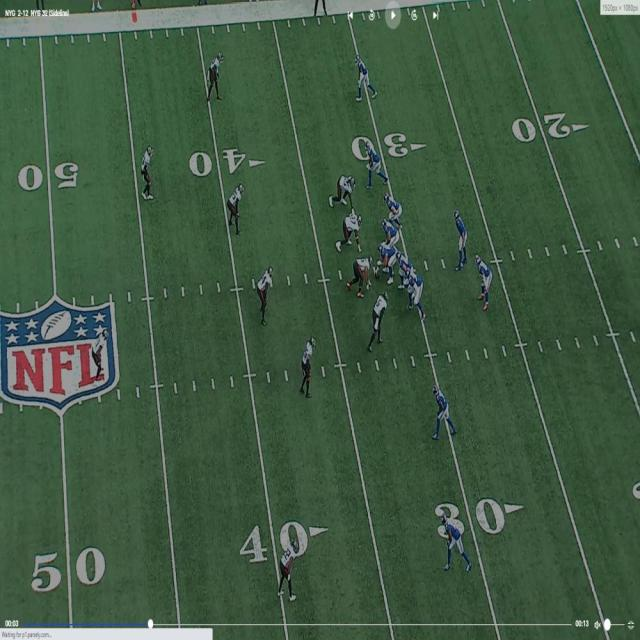center: (376, 240, 393, 272)
db: (279, 535, 298, 598), (204, 49, 225, 99), (301, 334, 315, 391), (138, 145, 153, 195)
lb: (231, 184, 247, 234), (257, 272, 270, 323)
qb: (454, 206, 467, 266)
skill: (444, 516, 466, 566), (436, 382, 454, 435), (365, 142, 383, 183), (355, 54, 371, 98), (476, 259, 490, 309)
